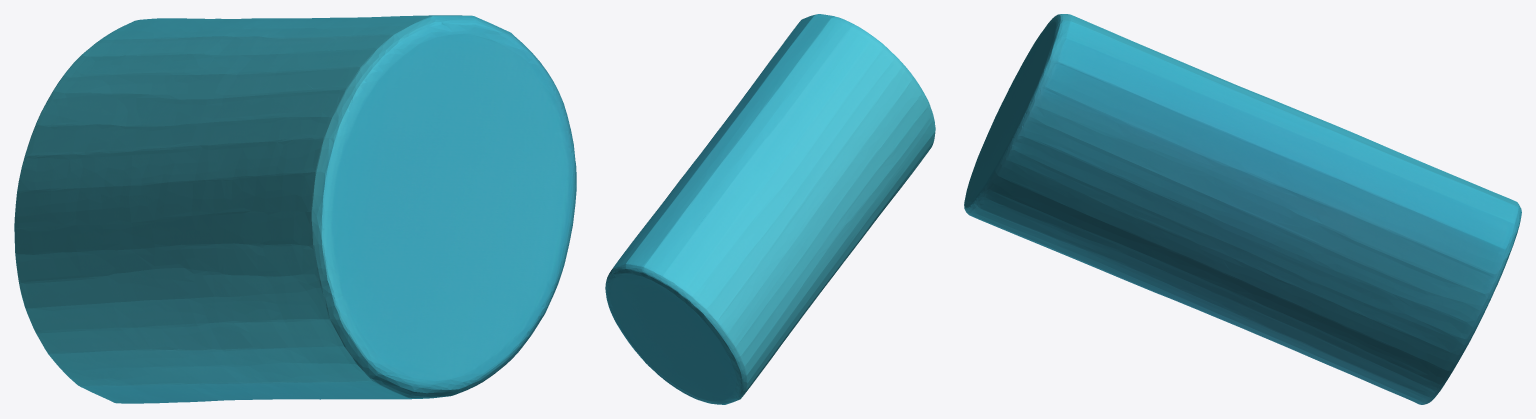
The model's file is blue.glb.
3 views of the same model, side by side, from view 1: azimuth 30°, elevation 25°; view 2: azimuth 150°, elevation 25°; view 3: azimuth 270°, elevation 25° (orthographic). The views are drawn at different scales.
Visible parts, largest first — view 1: world; view 2: world; view 3: world.
Part boxes in pixels (bbox=[...]): world: bbox=[14, 15, 576, 403]; world: bbox=[605, 14, 935, 404]; world: bbox=[964, 14, 1521, 404].
Size of the model in its own units: 0.0261 by 0.0476 by 0.0633.
Materials: 1 (1 with a texture image).
